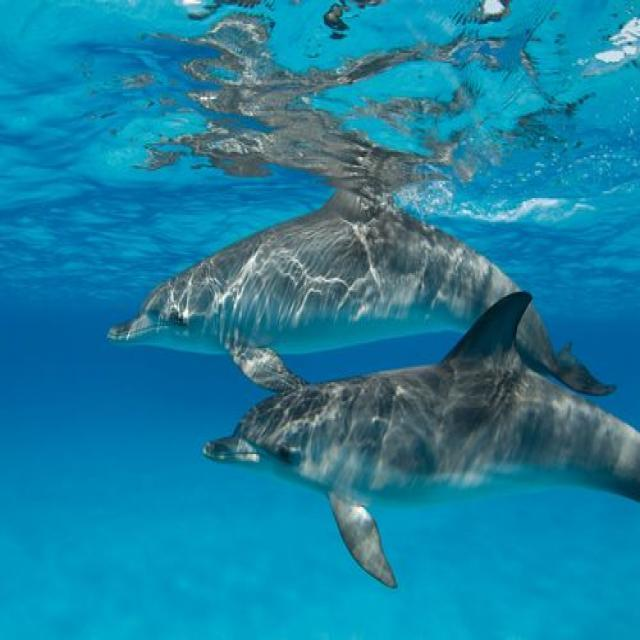dolphin: (147, 343, 640, 613), (83, 156, 621, 394)
